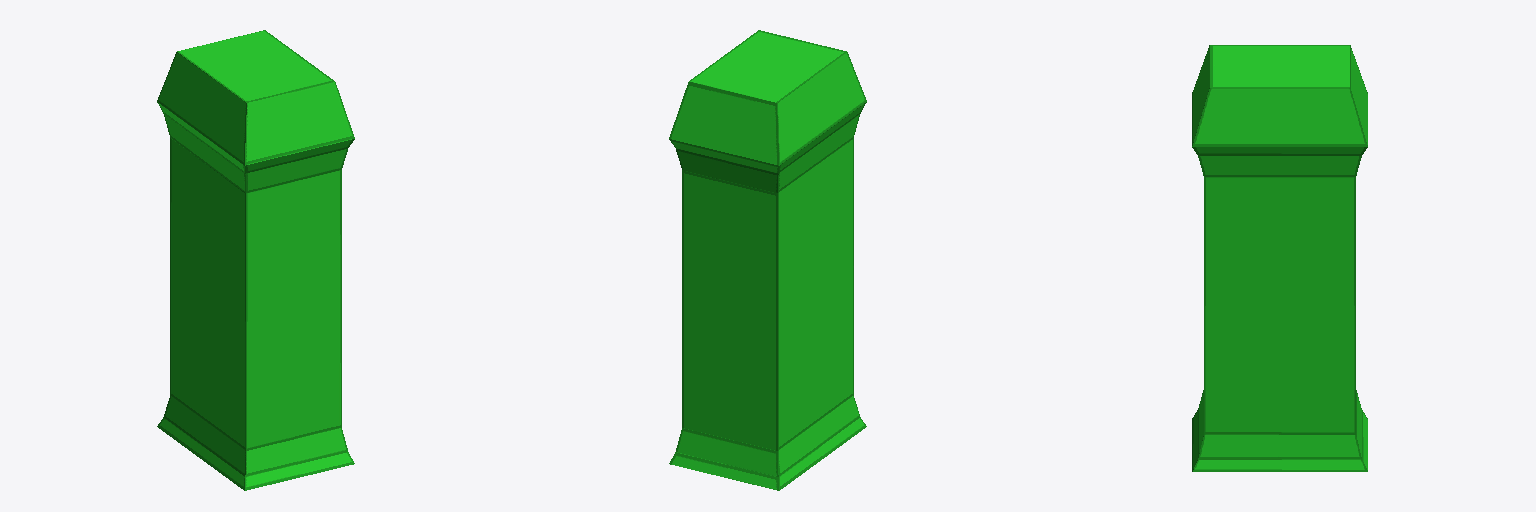
3 views of the same model, side by side, from view 1: azimuth 30°, elevation 25°; view 2: azimuth 150°, elevation 25°; view 3: azimuth 270°, elevation 25° (orthographic).
Visible parts, largest first — view 1: pCube14; view 2: pCube14; view 3: pCube14.
Boxes of the visible parts, x1,y1,x2,y2 form: pCube14: [157, 30, 354, 490]; pCube14: [669, 30, 866, 490]; pCube14: [1192, 45, 1367, 471].
Bounding box in the file's own units: 8.24 × 27.01 × 11.34.
Materials: 1 (1 with a texture image).